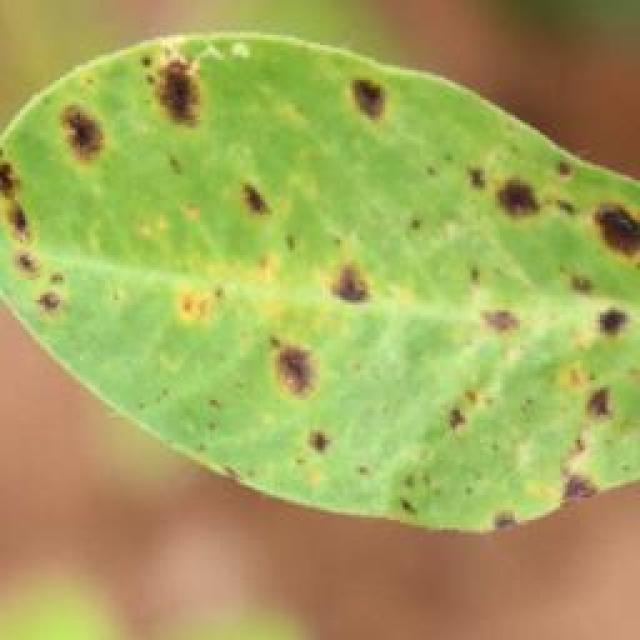Yellowish: (0, 27, 639, 571)
